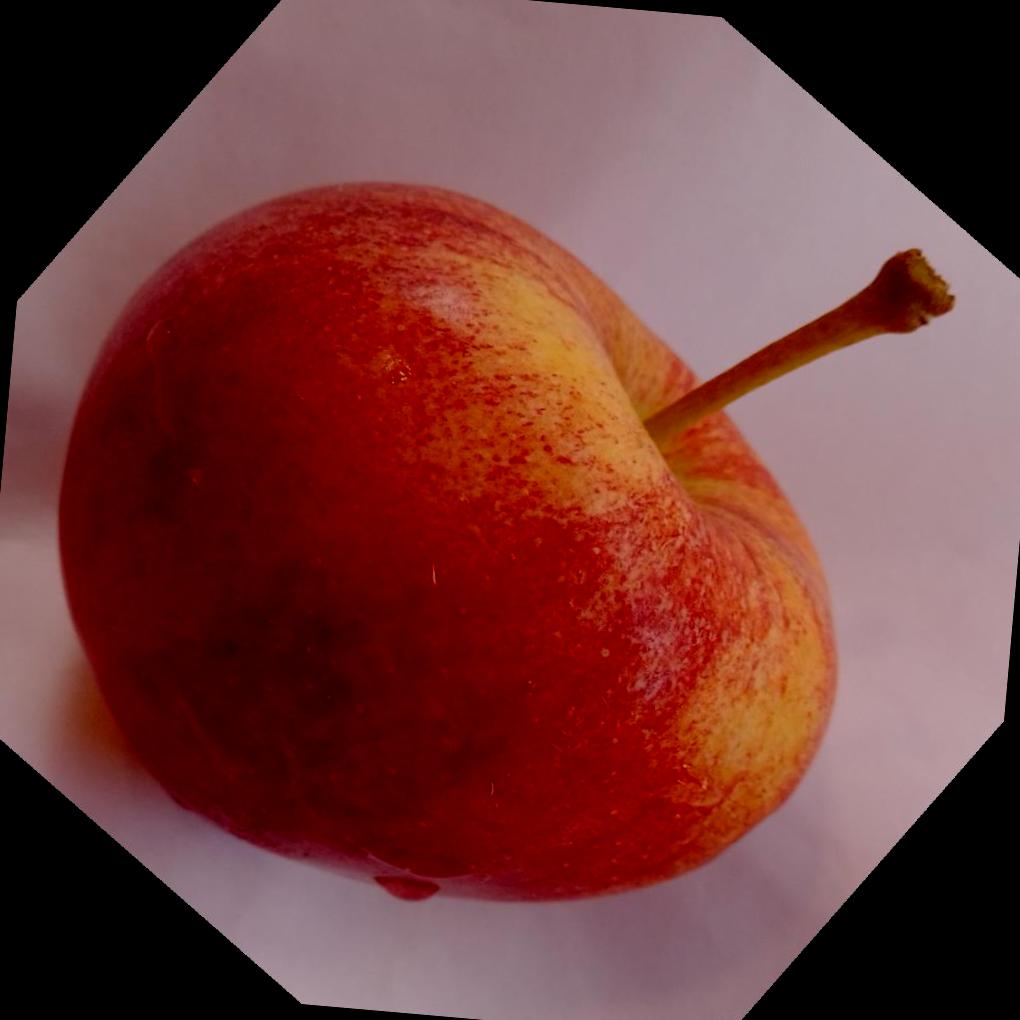FreshGuava: (53, 182, 842, 911)
